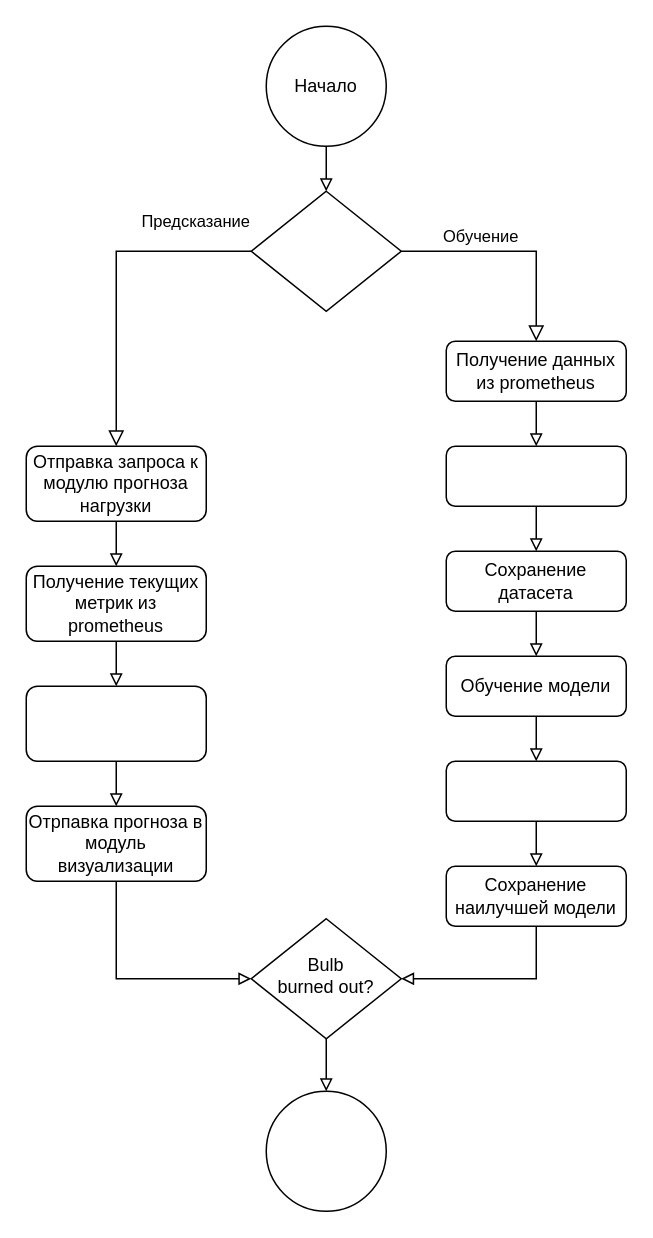
The diagram is 653 pixels wide and 1238 high, and some of its shapes have lost their labels. Each missing label, with the box of its shape:
Конец: (265, 1090, 386, 1211)
Оценка модели: (445, 760, 626, 821)
Подготовка данных: (445, 445, 626, 506)
Составление прогноза нагрузки: (25, 685, 206, 761)
